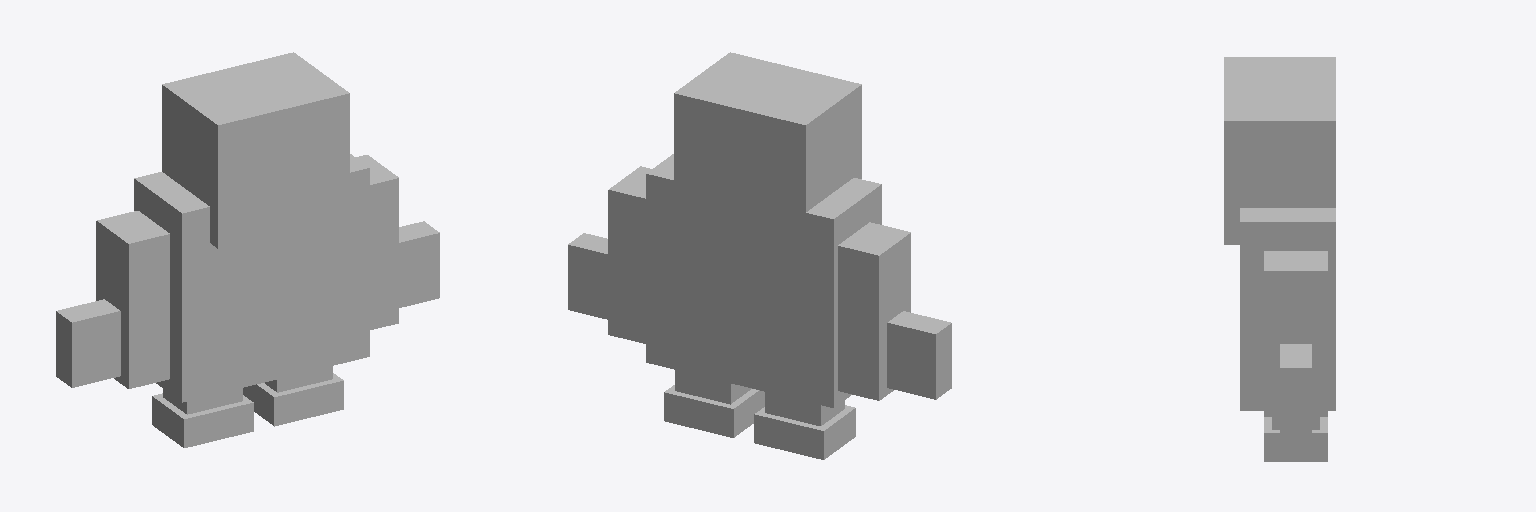
The model's file is Spaceship small 3.obj.
3 renders of one model, left to right at view 1: azimuth 30°, elevation 25°; view 2: azimuth 150°, elevation 25°; view 3: azimuth 270°, elevation 25°, orthographic.
Size of the model in its own units: 53 by 46 by 14.